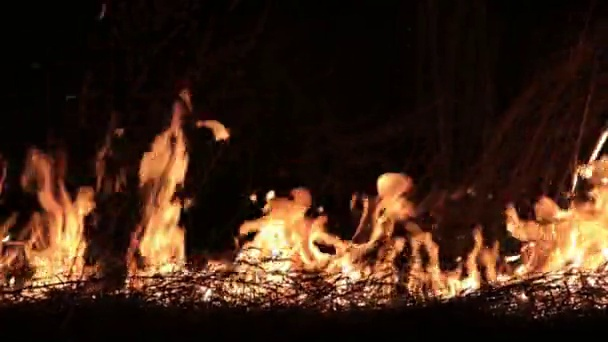fire: (206, 183, 360, 306), (1, 154, 89, 300), (507, 162, 608, 289), (126, 128, 194, 295), (366, 169, 451, 298), (455, 232, 498, 292)
